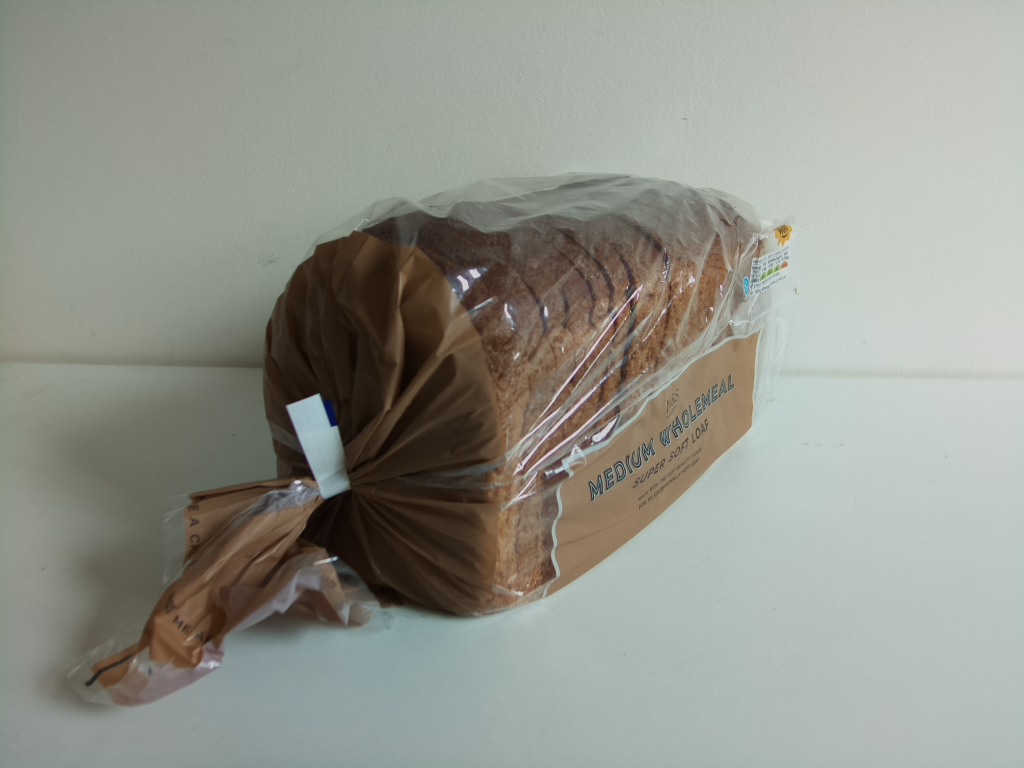bread: (63, 168, 791, 710)
